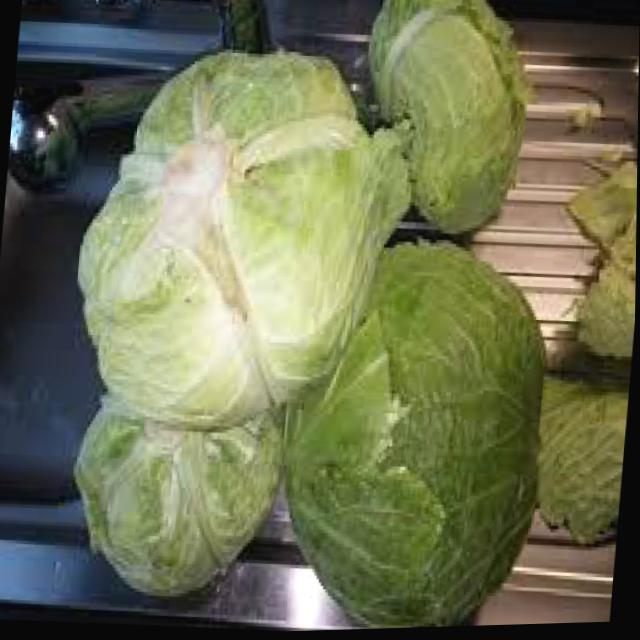Cabbage: (64, 32, 426, 442), (274, 234, 560, 633), (65, 389, 287, 609), (350, 0, 535, 245)
